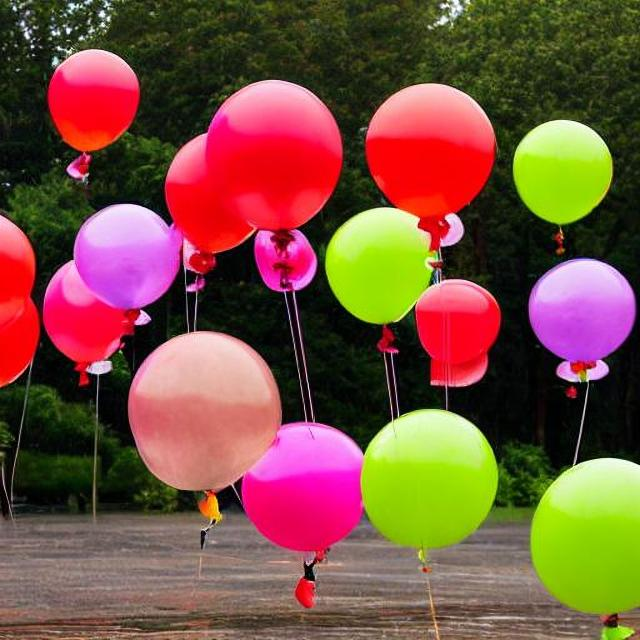balloon: (154, 82, 631, 324), (3, 200, 172, 398), (323, 406, 494, 576), (123, 328, 279, 494), (230, 418, 372, 555), (522, 456, 638, 616), (39, 45, 140, 157), (250, 223, 318, 290)
